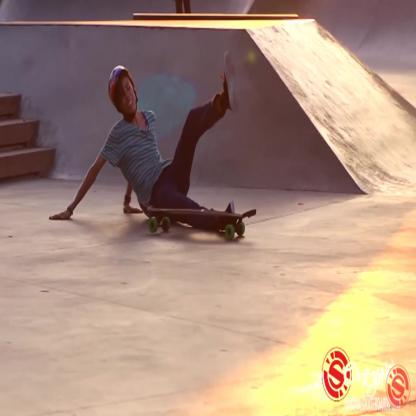Fall_Down: (47, 50, 241, 235)
